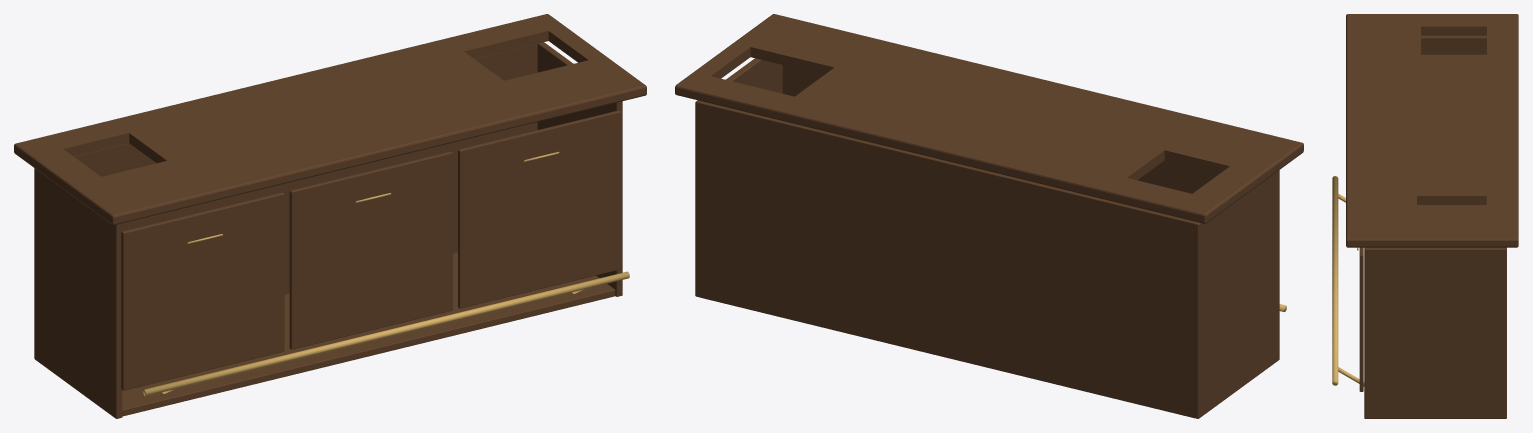
Rendered from BarCounter.fbx.
The picture shows the model from 3 angles, left to right: view 1: azimuth 30°, elevation 25°; view 2: azimuth 150°, elevation 25°; view 3: azimuth 270°, elevation 25°; orthographic projection. The views are drawn at different scales.
Parts seen in each view (by area): view 1: BarCounter::WalnutTop, BarCounter::FrontPanel-0.78, BarCounter::FrontPanel0, BarCounter::FrontPanel0.78, BarCounter::CabinetSide-1.16, BarCounter::CabinetBottom, BarCounter::CabinetBack, BarCounter::BrassFootRail, BarCounter::CabinetSide1.16; view 2: BarCounter::CabinetBack, BarCounter::WalnutTop, BarCounter::CabinetSide-1.16, BarCounter::CabinetSide1.16, BarCounter::FrontPanel-0.78, BarCounter::FrontPanel0.78; view 3: BarCounter::WalnutTop, BarCounter::CabinetSide1.16, BarCounter::CabinetBottom, BarCounter::BrassFootRail, BarCounter::CabinetSide-1.16, BarCounter::FrontPanel0.78.
Part boxes in pixels (x1,y1,x2,y2): BarCounter::WalnutTop: (14, 14, 646, 225); BarCounter::FrontPanel-0.78: (121, 192, 284, 390); BarCounter::FrontPanel0: (289, 151, 452, 349); BarCounter::FrontPanel0.78: (458, 110, 621, 308); BarCounter::CabinetSide-1.16: (34, 168, 122, 418); BarCounter::CabinetBottom: (122, 252, 615, 416); BarCounter::CabinetBack: (74, 43, 537, 294); BarCounter::BrassFootRail: (143, 271, 629, 396); BarCounter::CabinetSide1.16: (537, 42, 622, 296); BarCounter::CabinetBack: (699, 101, 1196, 418); BarCounter::WalnutTop: (675, 14, 1303, 223); BarCounter::CabinetSide-1.16: (1193, 170, 1279, 418); BarCounter::CabinetSide1.16: (695, 58, 782, 296); BarCounter::FrontPanel-0.78: (1137, 160, 1219, 193); BarCounter::FrontPanel0.78: (782, 65, 823, 96); BarCounter::WalnutTop: (1346, 14, 1518, 247); BarCounter::CabinetSide1.16: (1364, 247, 1506, 418); BarCounter::CabinetBottom: (1417, 205, 1486, 231); BarCounter::BrassFootRail: (1332, 176, 1338, 385); BarCounter::CabinetSide-1.16: (1421, 35, 1486, 54); BarCounter::FrontPanel0.78: (1359, 247, 1363, 391).
Bounding box in the file's own units: 248 × 95 × 86.4.
